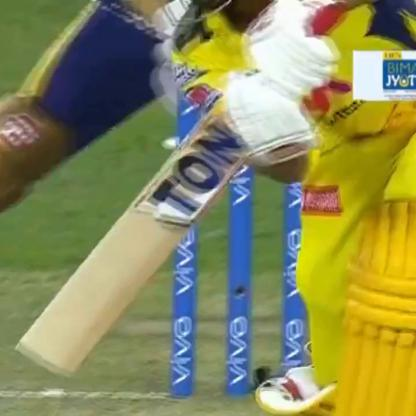bat: (22, 104, 252, 391)
